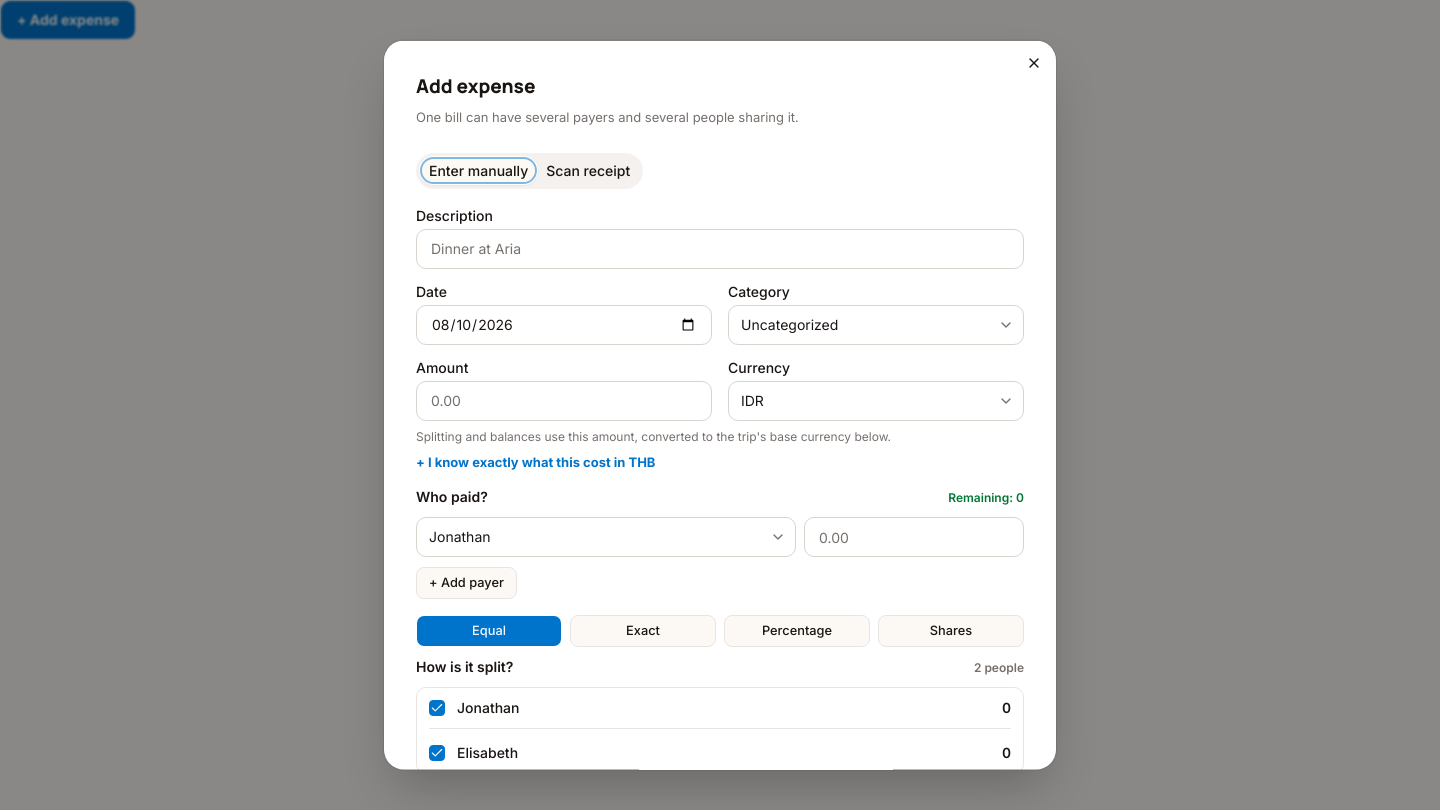
ExpenseDialog › shows the computed shares split amount
The image size is (1440, 810).
Select "THB" in the dropdown labelled "Currency" at (876, 400), box [728, 380, 1024, 420]
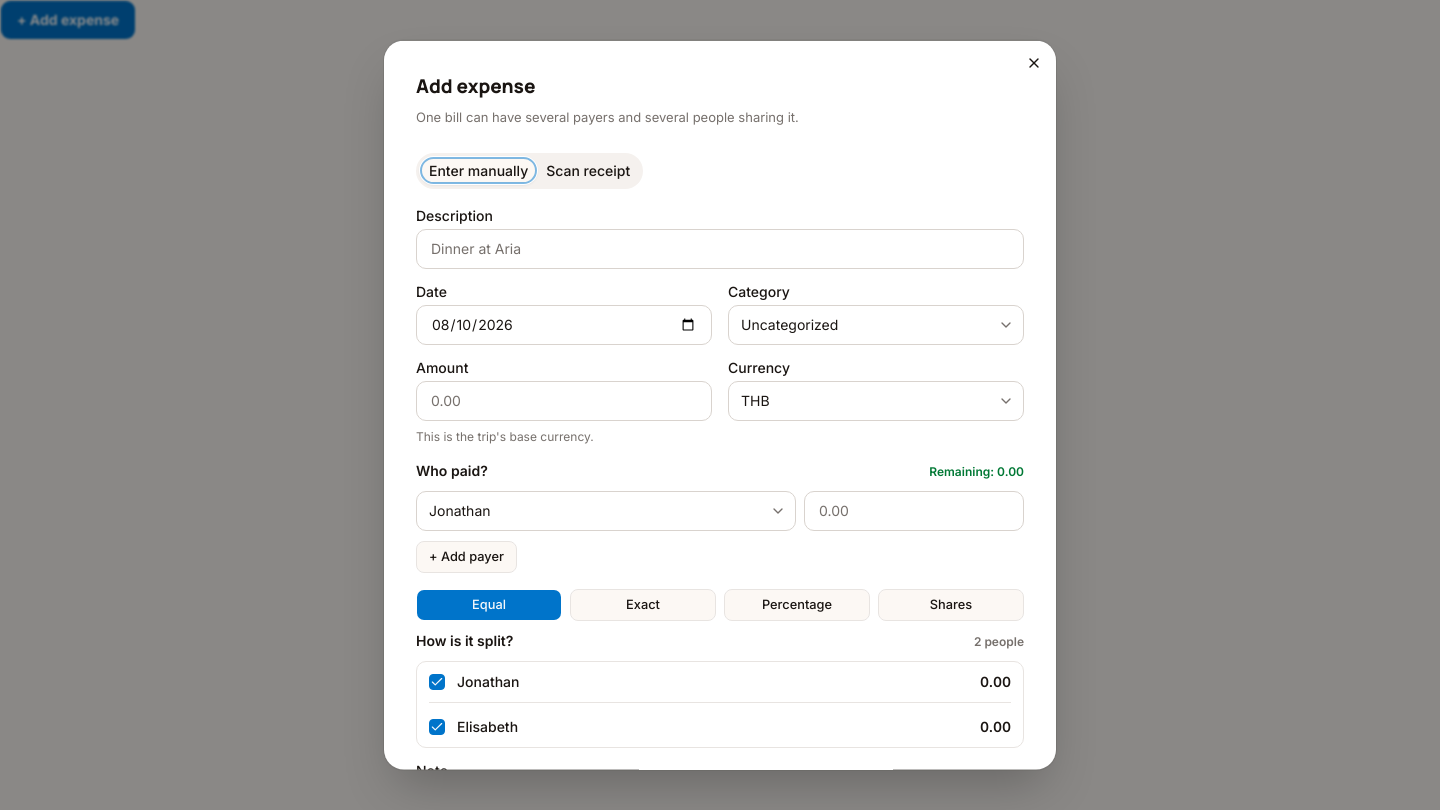
Type "1500000" into the field labelled "Amount" at (564, 400), box [416, 380, 712, 420]
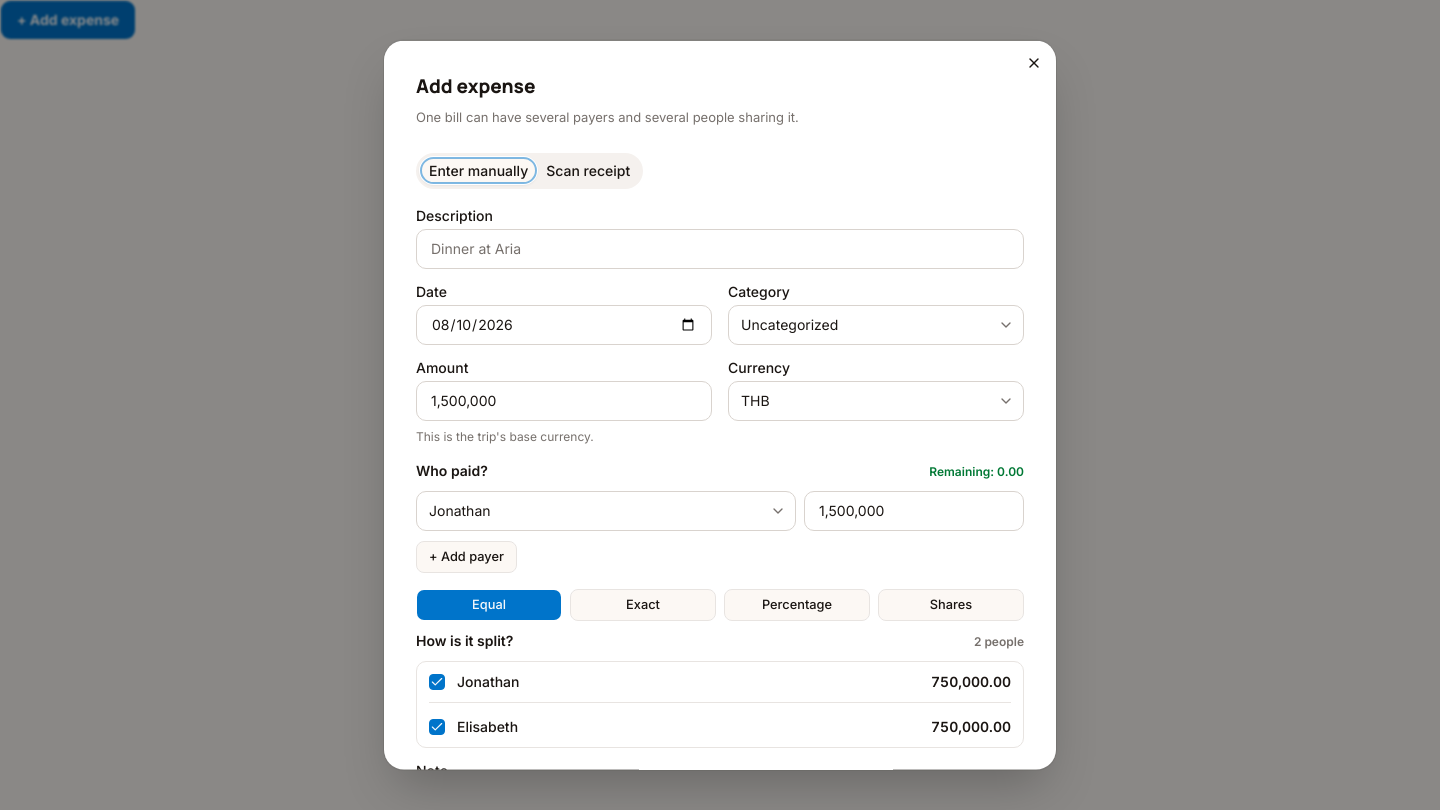
Click the button "Shares" at (951, 604), box [878, 588, 1024, 620]
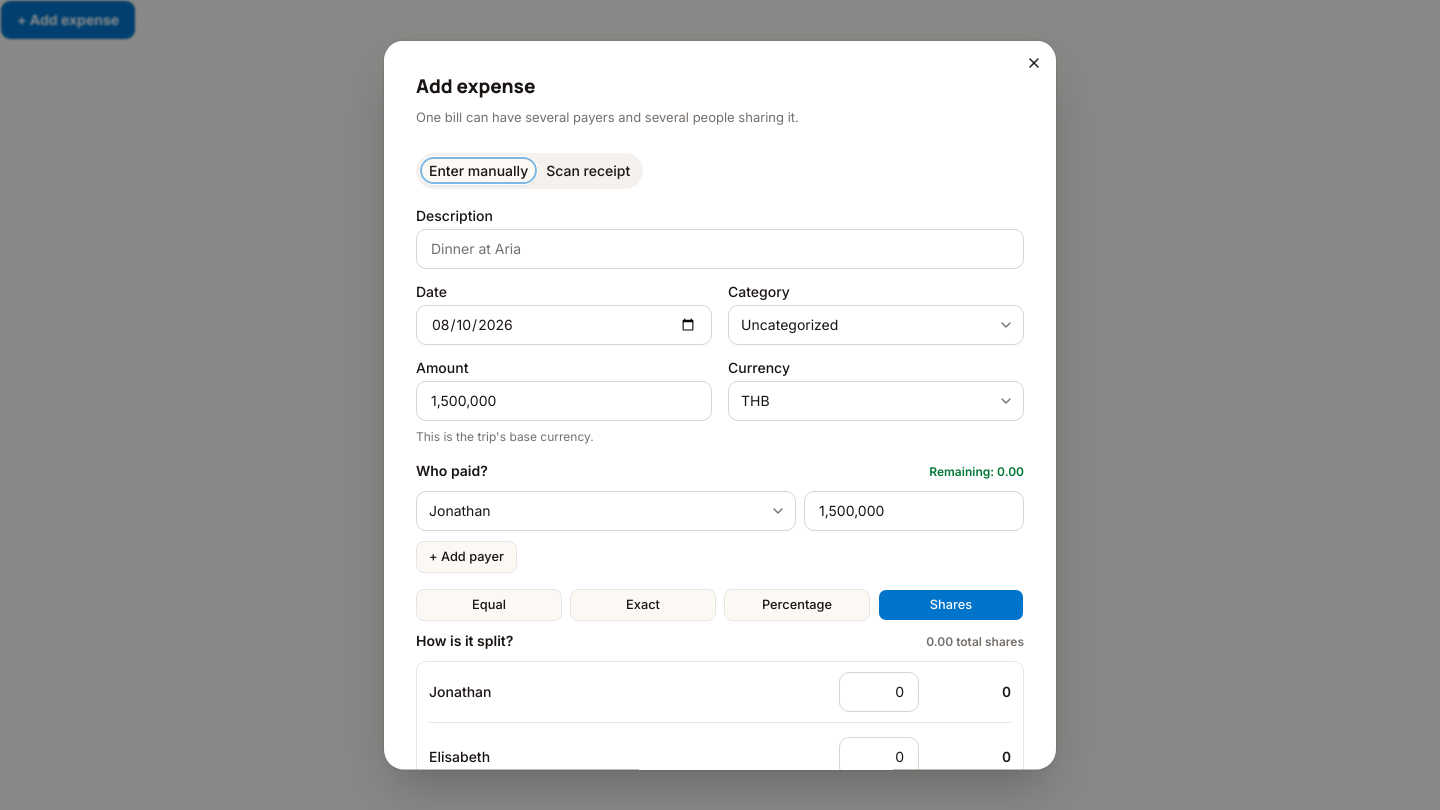
Type "5" into the field named "shares for jonathan" at (879, 691), box [839, 671, 919, 711]
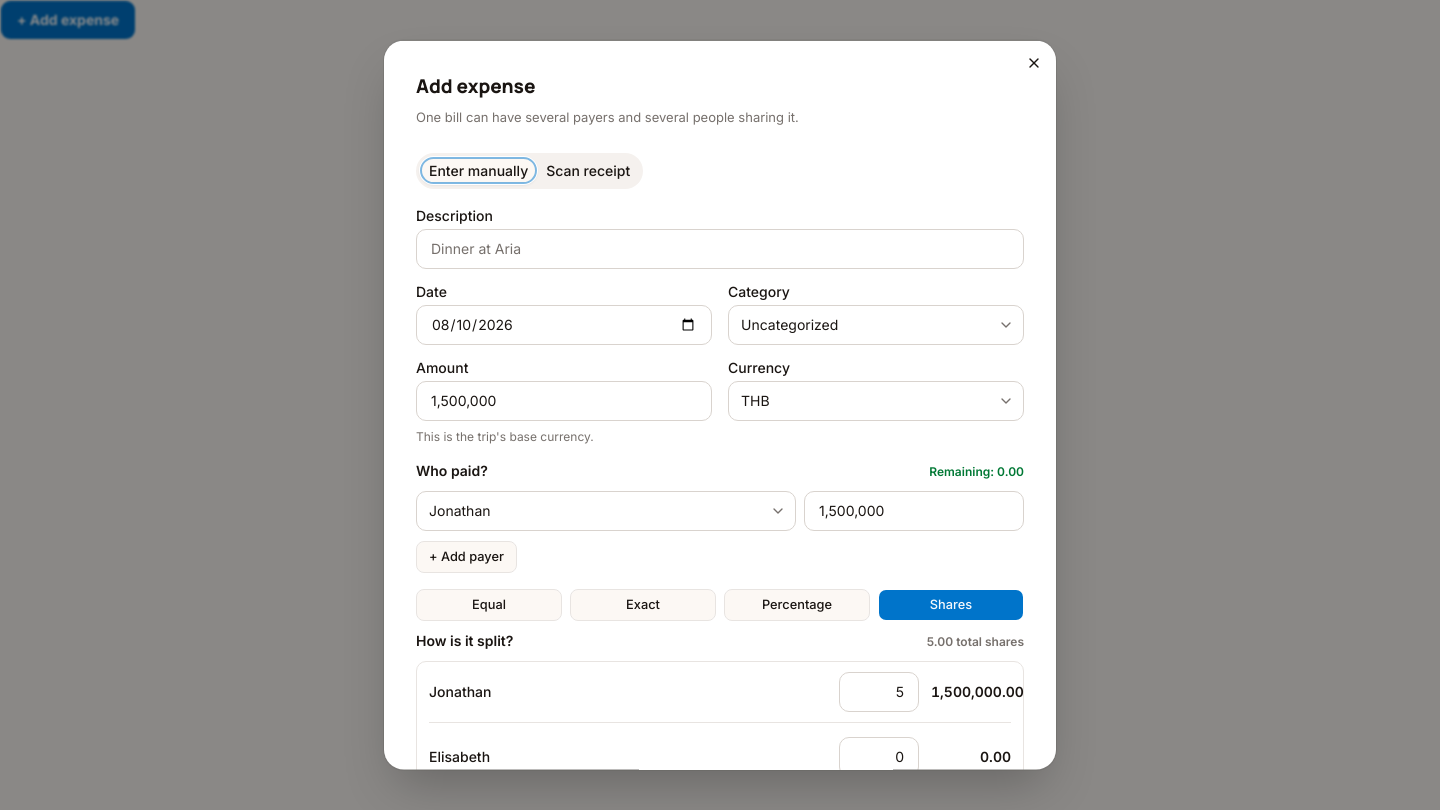
Type "2" into the field named "shares for elisabeth" at (879, 756), box [839, 736, 919, 776]
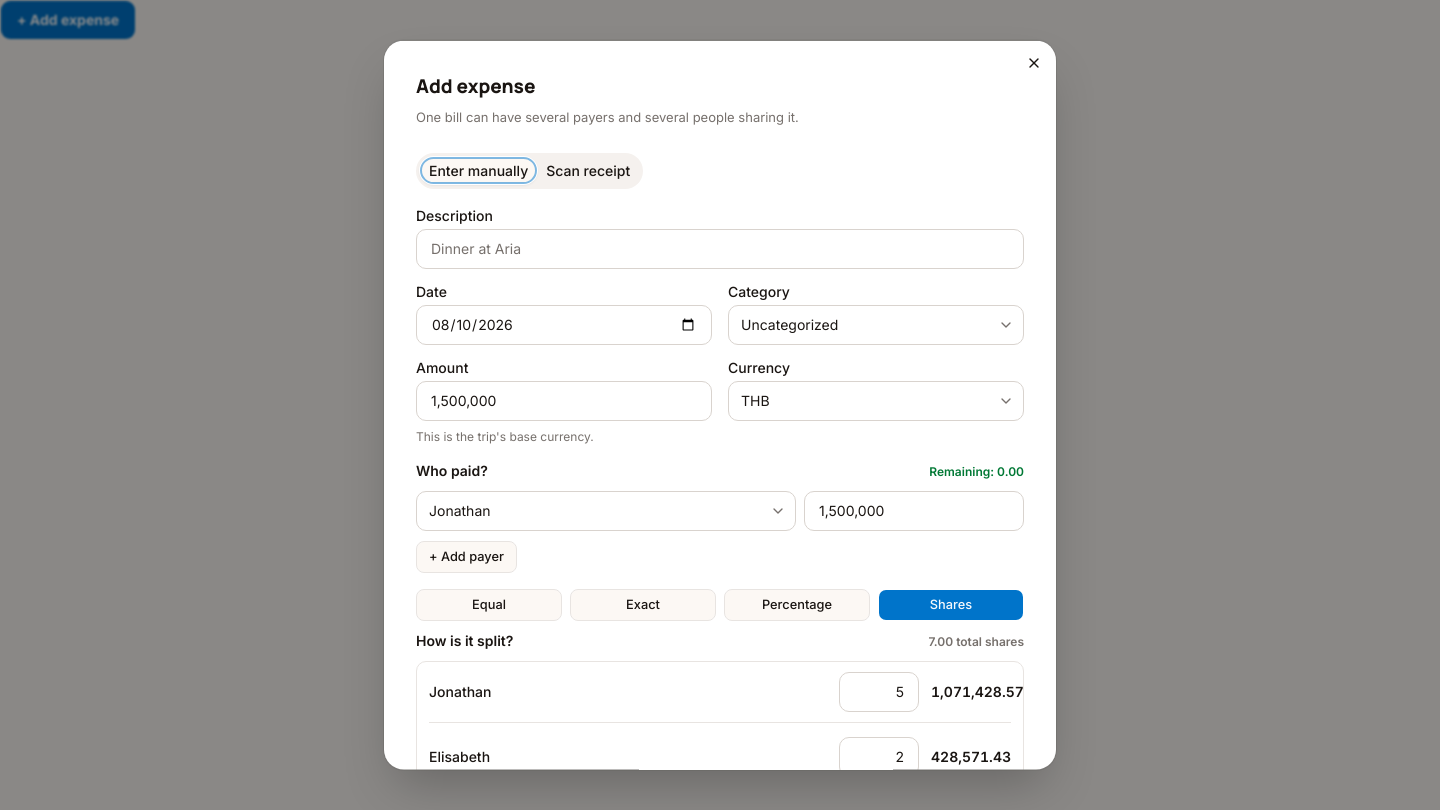
Result: the text "1,071,428.57" is shown at [931, 681, 1011, 701]
Result: the text "428,571.43" is shown at [931, 746, 1011, 766]
